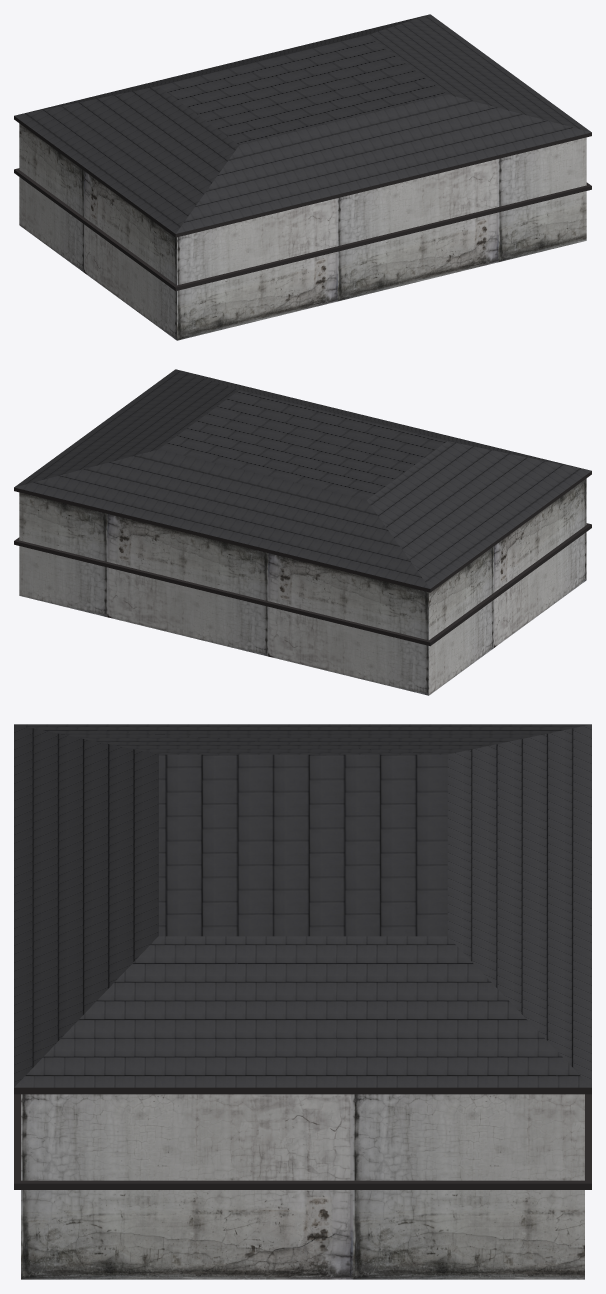
File: immeuble2.fbx
3 views of the same model, one above another, from view 1: azimuth 30°, elevation 25°; view 2: azimuth 150°, elevation 25°; view 3: azimuth 270°, elevation 25° (orthographic). The views are drawn at different scales.
Parts seen in each view (by area): view 1: Immeuble2_toit, Immeuble2; view 2: Immeuble2_toit, Immeuble2; view 3: Immeuble2_toit, Immeuble2.
Part boxes in pixels (x1=…): Immeuble2_toit: x1=14, y1=14, x2=591, y2=291; Immeuble2: x1=19, y1=123, x2=586, y2=340; Immeuble2_toit: x1=14, y1=369, x2=591, y2=646; Immeuble2: x1=19, y1=478, x2=586, y2=695; Immeuble2_toit: x1=14, y1=724, x2=591, y2=1189; Immeuble2: x1=21, y1=1094, x2=584, y2=1279.
Bounding box in the file's own units: 122 × 40 × 82.
2 materials, 2 textured.
